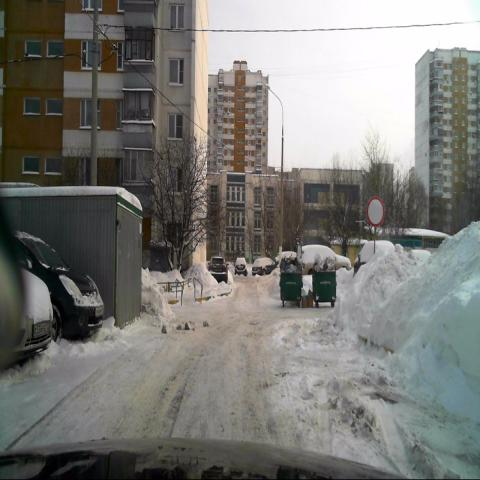3_2: (366, 195, 384, 227)
